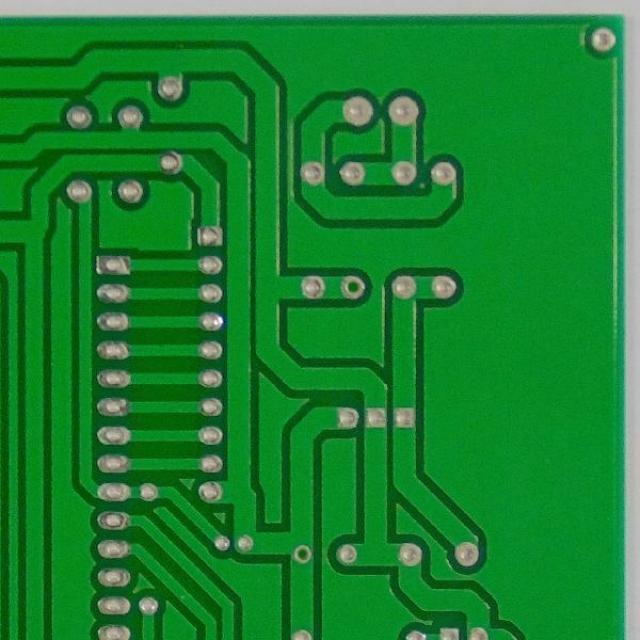Missing_Hole: (338, 276, 365, 300), (292, 542, 312, 566)
